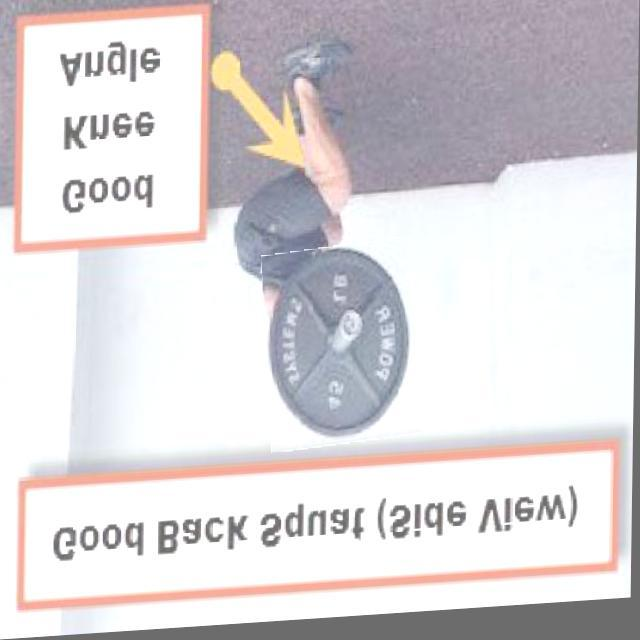barbell: (265, 244, 423, 455)
